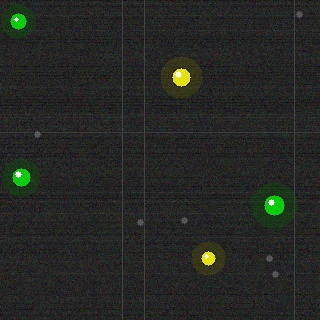green_normal: (262, 193, 286, 217), (10, 166, 32, 188), (8, 11, 28, 31)
yellow_warning: (170, 66, 192, 88), (199, 249, 217, 267)
